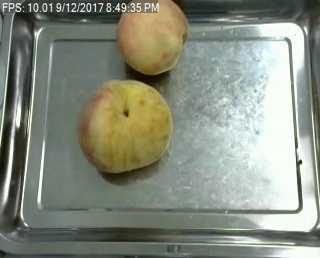Peach: (77, 79, 172, 173), (116, 0, 189, 74)
